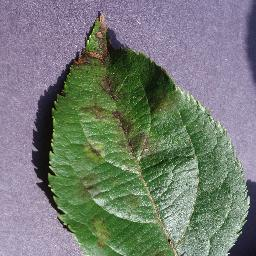apple healthy: (43, 9, 251, 255)
